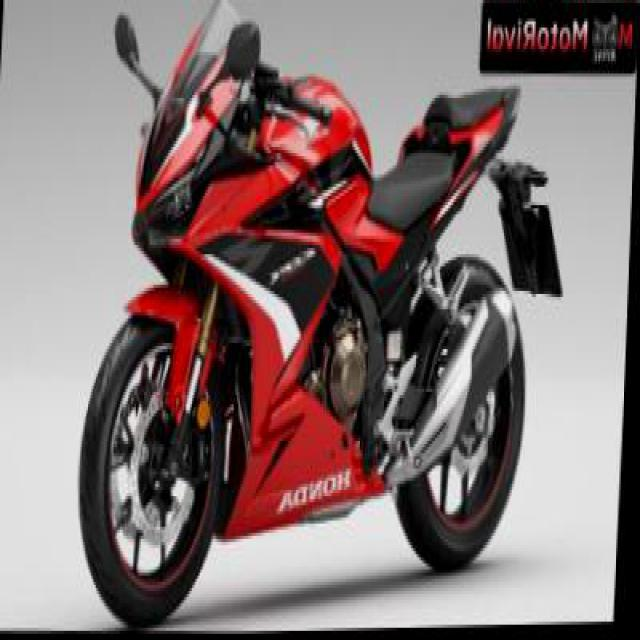CBR500R: (75, 0, 546, 634)
